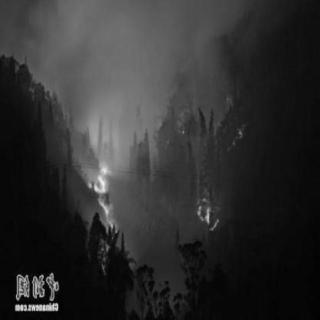Fire: (85, 150, 127, 232), (187, 188, 223, 236)
Smoke: (56, 4, 208, 184)
